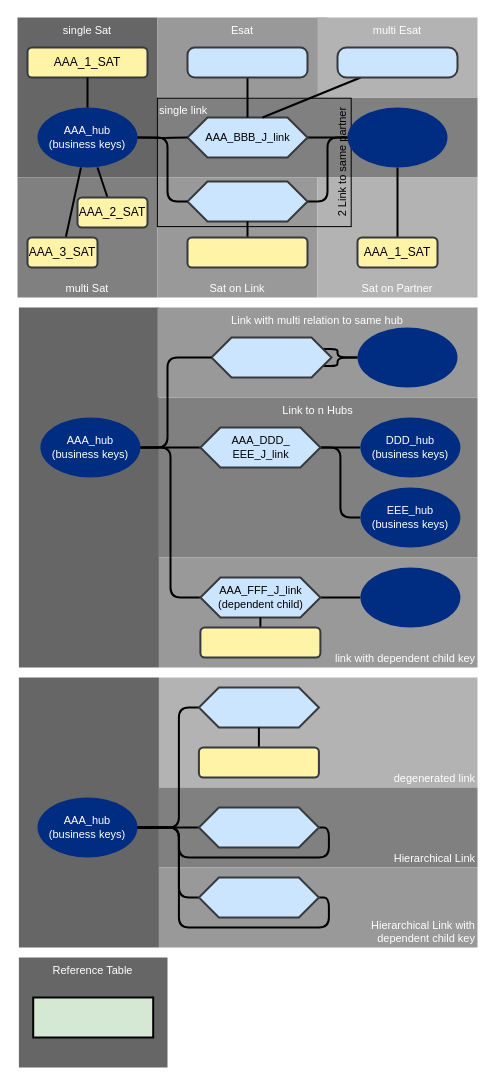
Some shapes in this 494 by 1084 pixel diagram are drawn without their labels. Here are the shapes that lost their labels. From the top down, the centre of each, then its label:
(x=247, y=62): AAA_BBB_J_1_ESAT
(x=397, y=62): AAA_BBB_J_2_ESAT
(x=397, y=137): BBB_hub (business keys)
(x=247, y=201): AAA_BBB_K_link
(x=247, y=252): AAA_BBB_K_1_SAT
(x=271, y=357): AAA_CCC_ J_link
(x=407, y=357): CCC_hub (business keys)
(x=410, y=597): FFF_hub (business keys)
(x=260, y=642): AAA_FFF_J_1_SAT
(x=258, y=707): AAA_J_dlink (dependent child)
(x=258, y=762): AAA_J_1_SAT
(x=258, y=827): AAA_J_hlink
(x=258, y=897): AAA_J_hlink (dependent child)
(x=93, y=1017): GGG_REF
